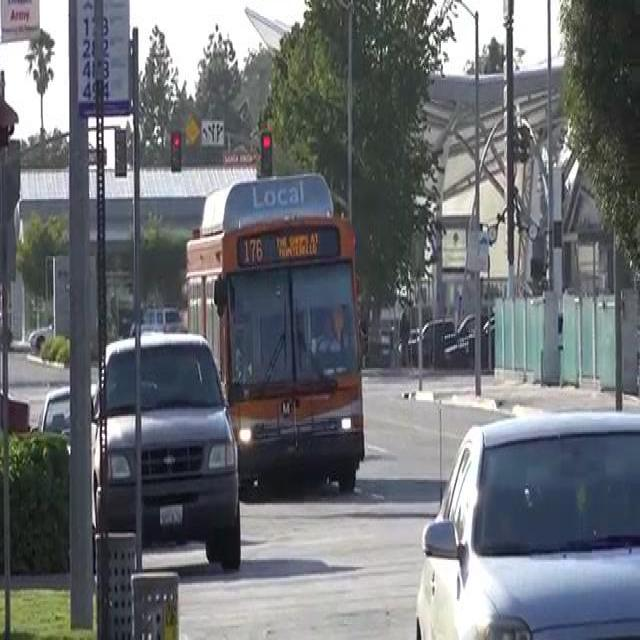motorcycle: (187, 178, 367, 490)
